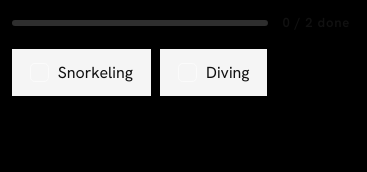
TickList › ticks items, counts them and remembers them on this device
The image size is (367, 172).
Later steps or results of the test are not shown.
Click the button "Snorkeling": (81, 72) x1=12 y1=49 x2=151 y2=96
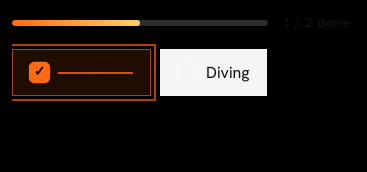
expect the button "✓ Snorkeling" is pressed: met, box x1=12 y1=49 x2=151 y2=96
